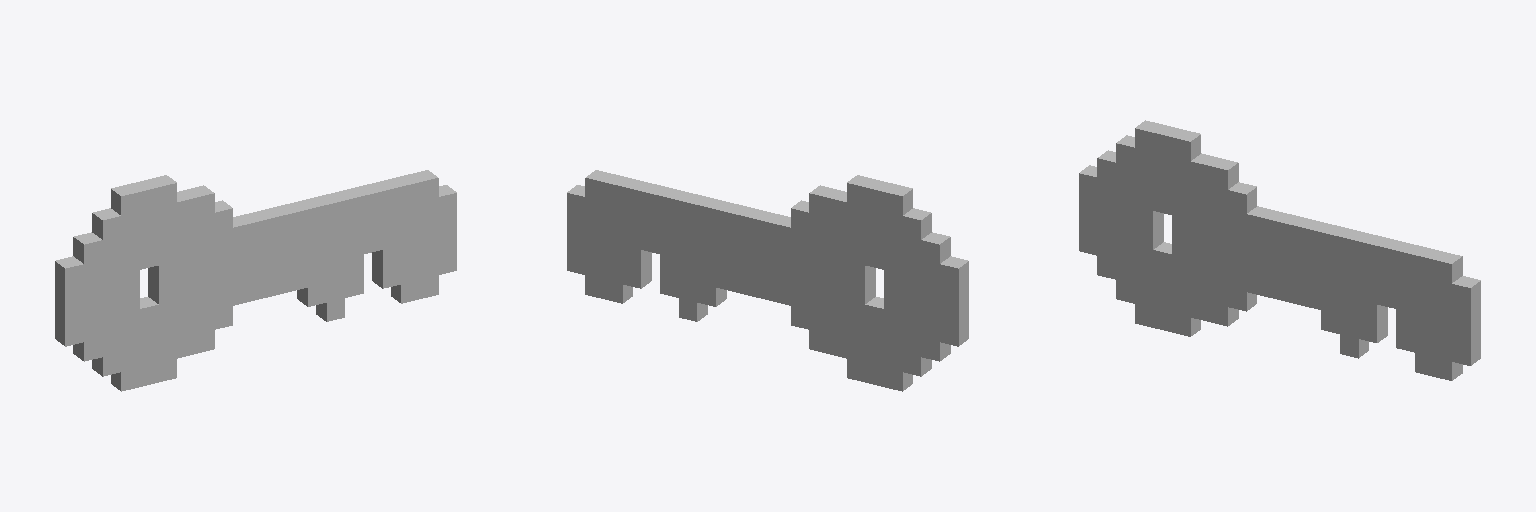
The model's file is key.obj.
3 renders of one model, left to right at view 1: azimuth 30°, elevation 25°; view 2: azimuth 150°, elevation 25°; view 3: azimuth 330°, elevation 25°, orthographic.
Parts seen in each view (by area): view 1: object 1; view 2: object 1; view 3: object 1.
Boxes of the visible parts, <box> form: object 1: <box>55,170,456,391</box>; object 1: <box>567,170,968,391</box>; object 1: <box>1079,120,1480,380</box>.
Bounding box in the file's own units: 2.1 × 1 × 0.1.